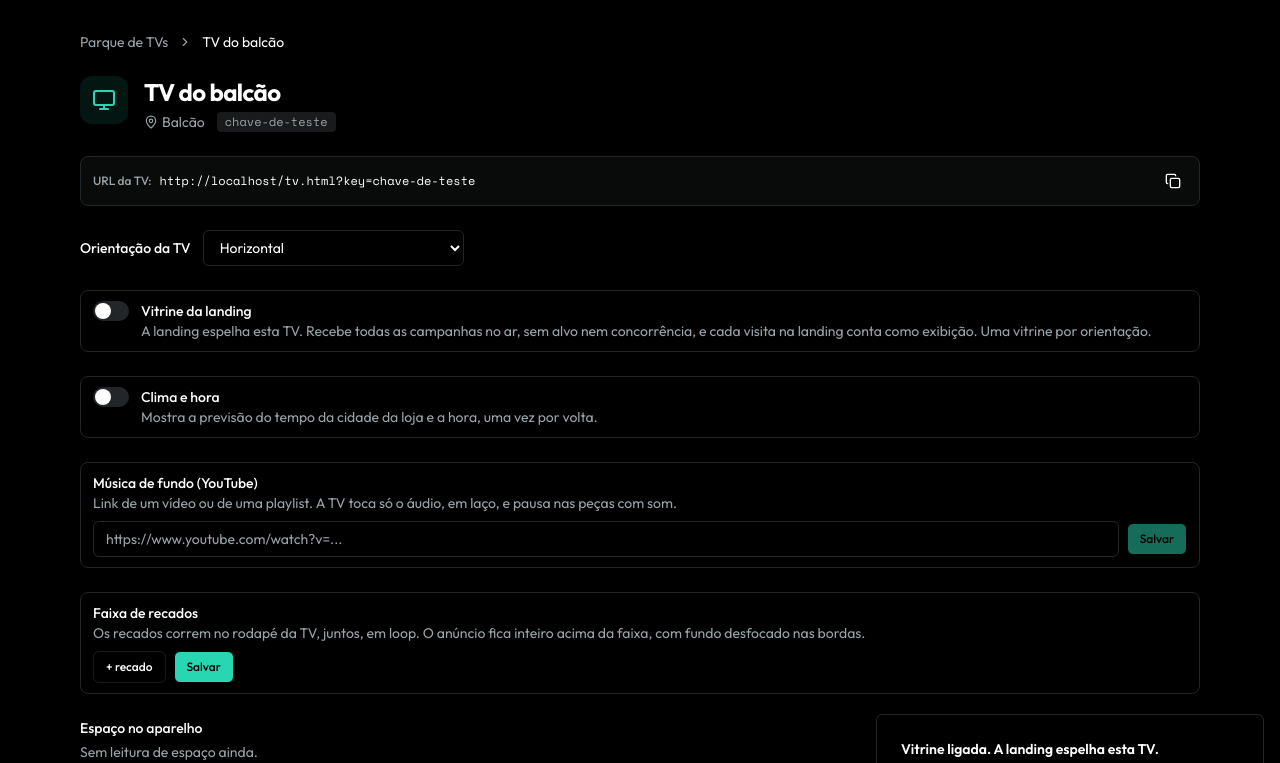
vitrine da landing › mostra no toast o conflito com a outra vitrine
Click the switch named "Vitrine da landing".
click(111, 311)  # box [93, 301, 129, 321]
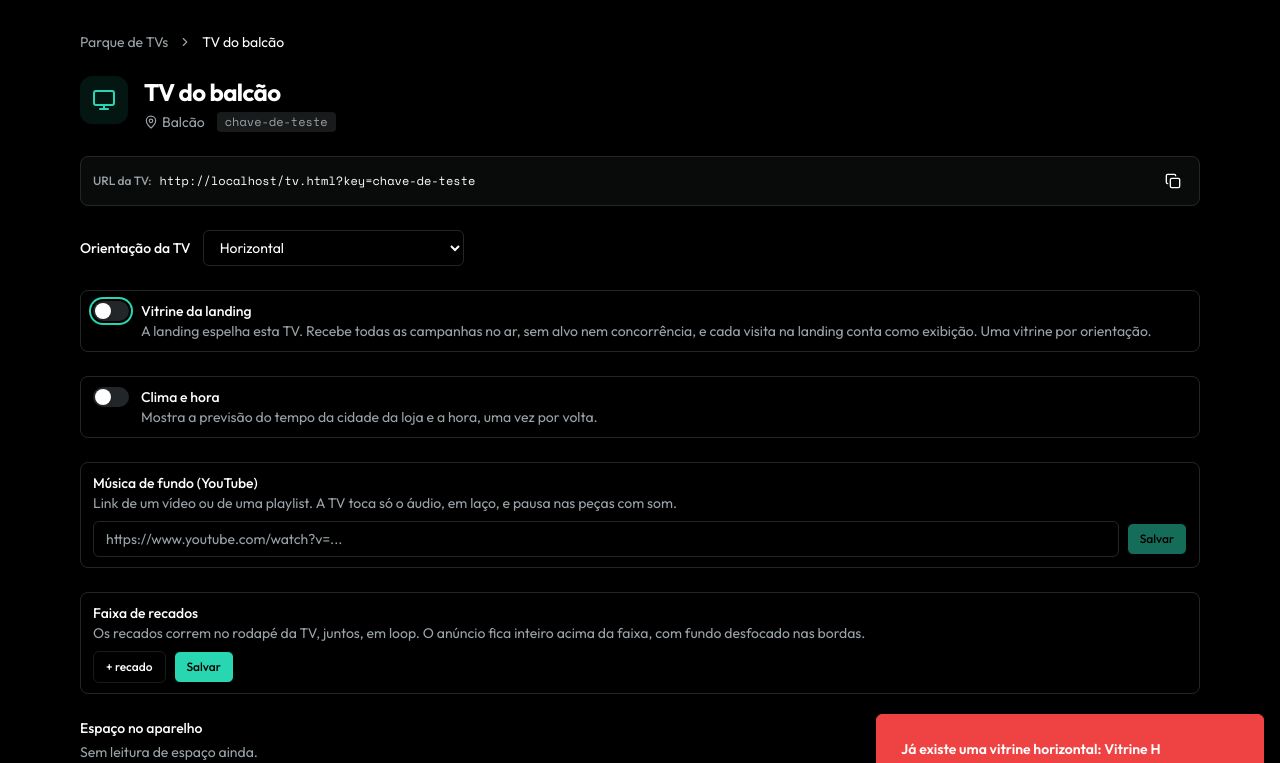
Check: the text "Já existe uma vitrine horizontal: Vitrine H" is shown, box [901, 739, 1160, 759]
